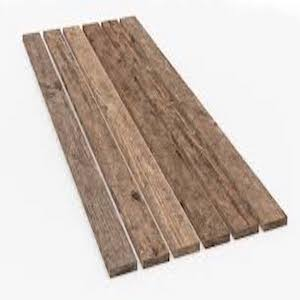combustible: (22, 34, 290, 231)
